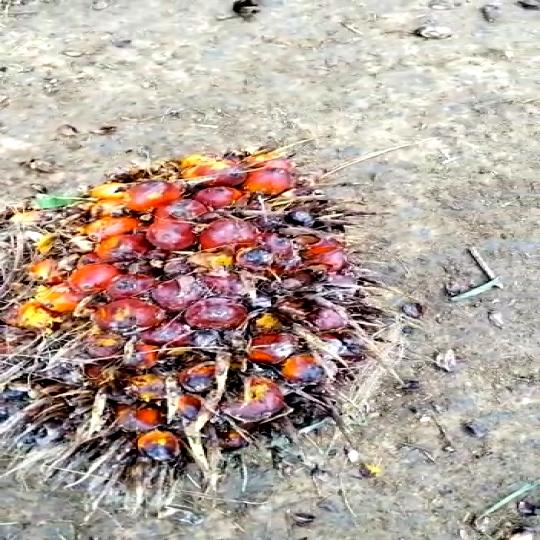masak: (0, 147, 411, 495)
